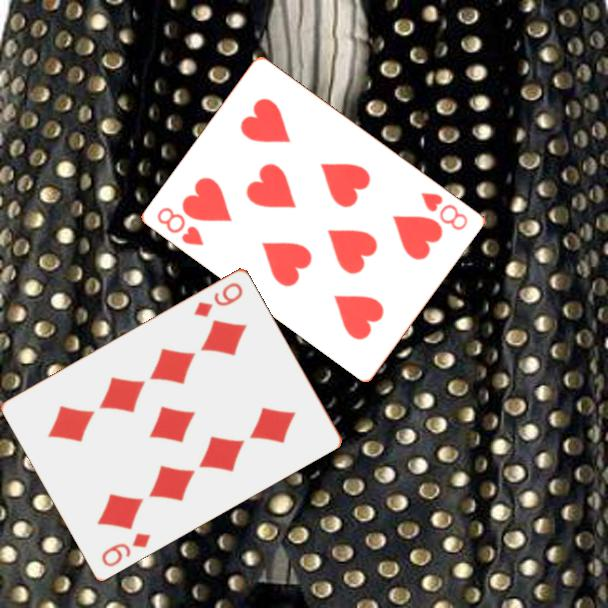d09: (191, 278, 246, 320), (98, 529, 154, 569)
h08: (154, 203, 207, 249), (418, 188, 471, 233)
